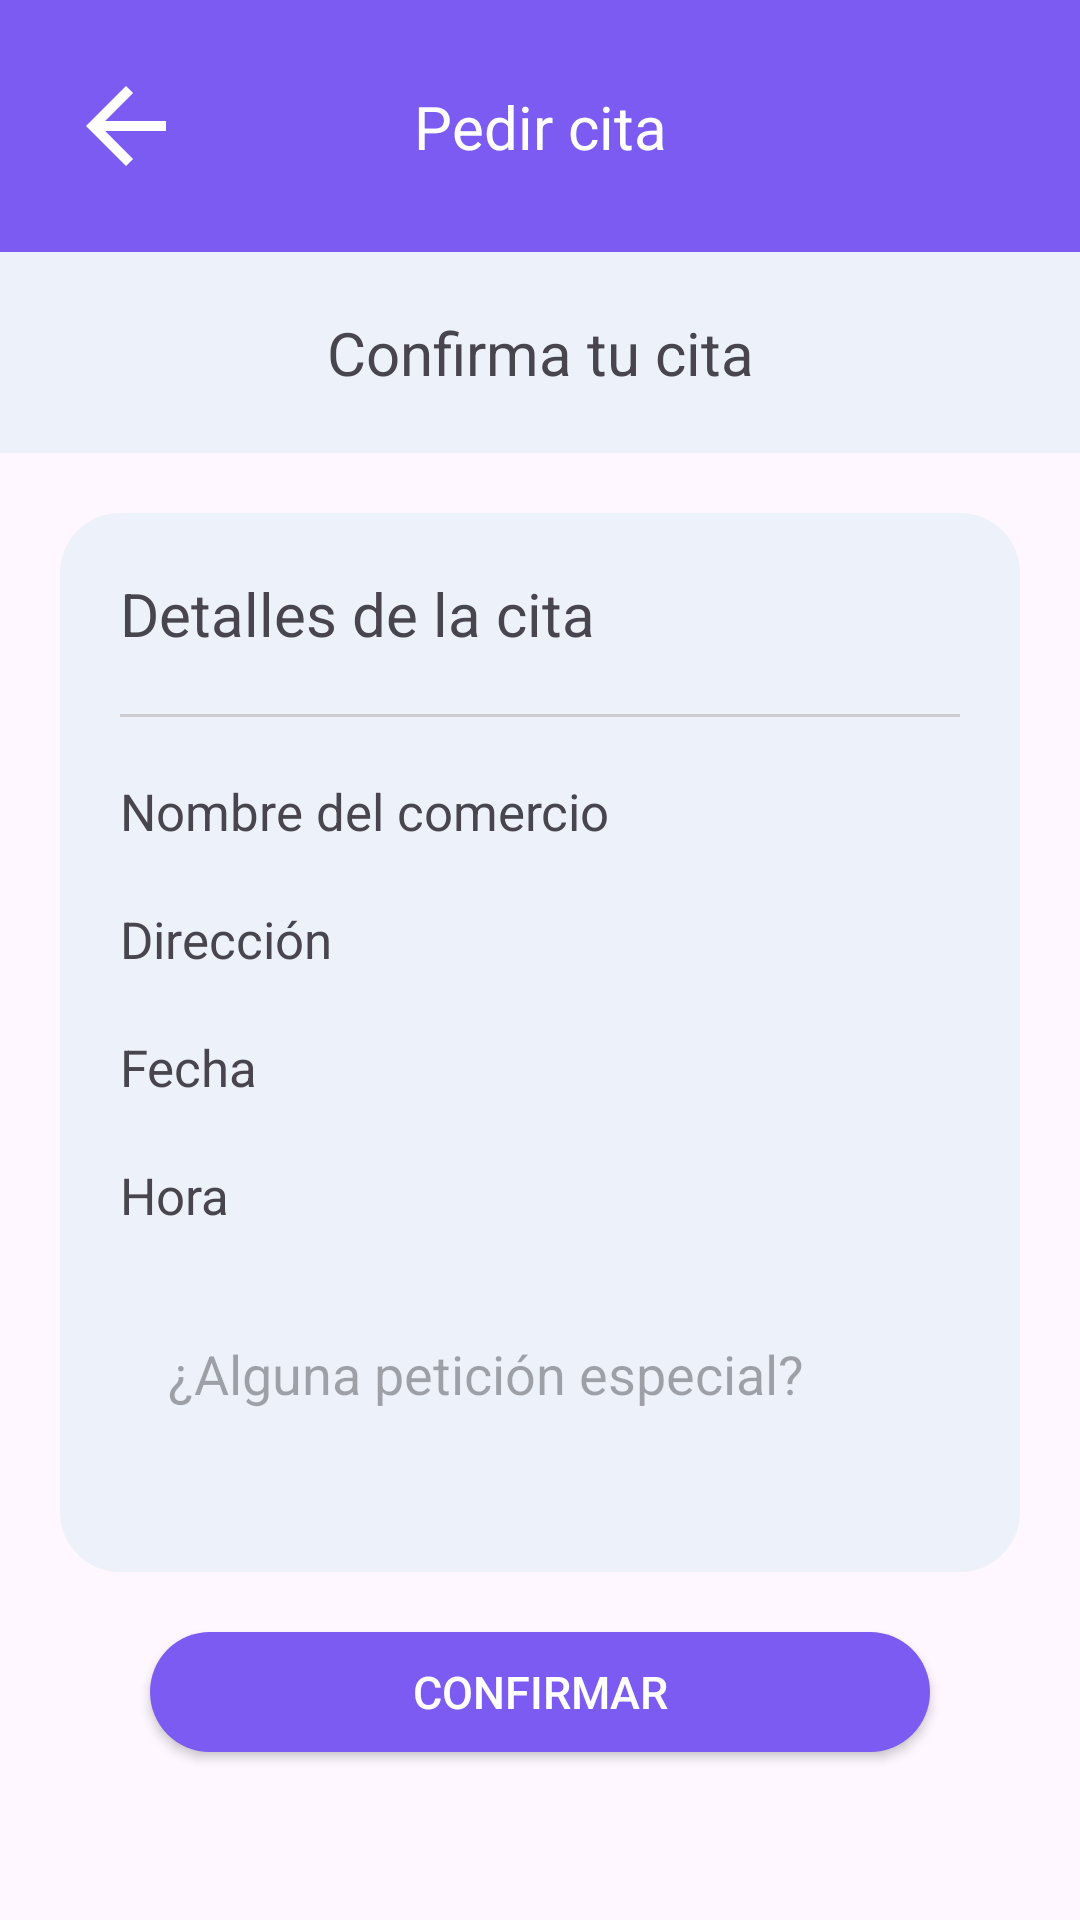

Locate icon controls on the screen. Image size 1080w x 1920h, boxes as (x1, y1, x2, y2).
back arrow: (86, 86, 166, 166)
